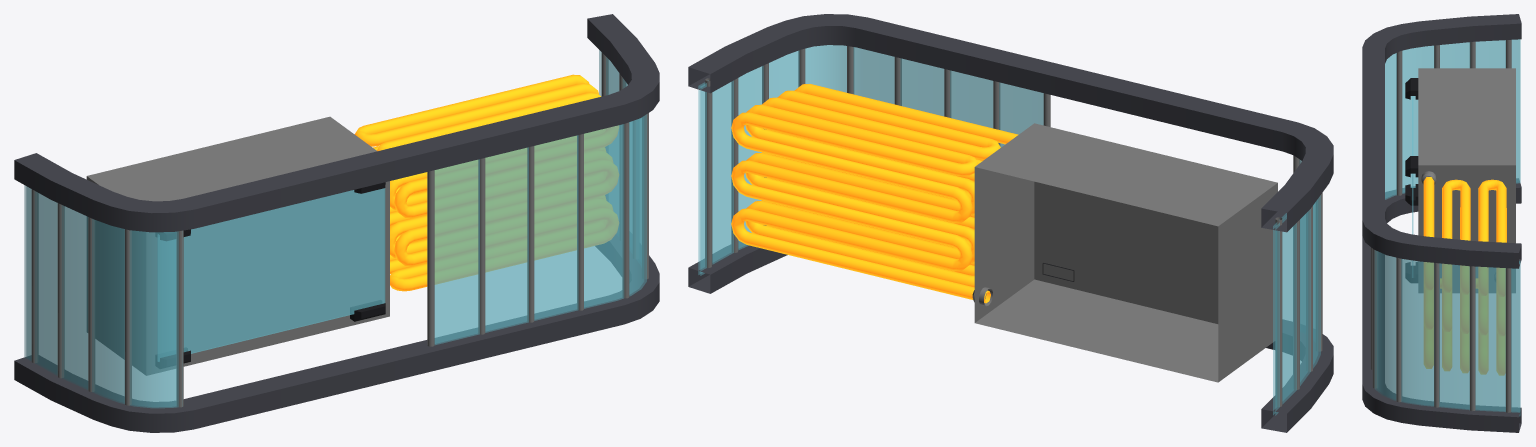
Rendered from Misc_Heater.glb.
3 renders of one model, left to right at view 1: azimuth 30°, elevation 25°; view 2: azimuth 150°, elevation 25°; view 3: azimuth 270°, elevation 25°, orthographic. The views are drawn at different scales.
Parts seen in each view (by area): view 1: Misc_Heater.001; view 2: Misc_Heater.001; view 3: Misc_Heater.001.
Boxes of the visible parts, left/top/right/bottom form: Misc_Heater.001: left=14, top=14, right=659, bottom=432; Misc_Heater.001: left=688, top=14, right=1333, bottom=432; Misc_Heater.001: left=1362, top=14, right=1521, bottom=432.
Size of the model in its own units: 1.3 by 0.4572 by 0.3676.
